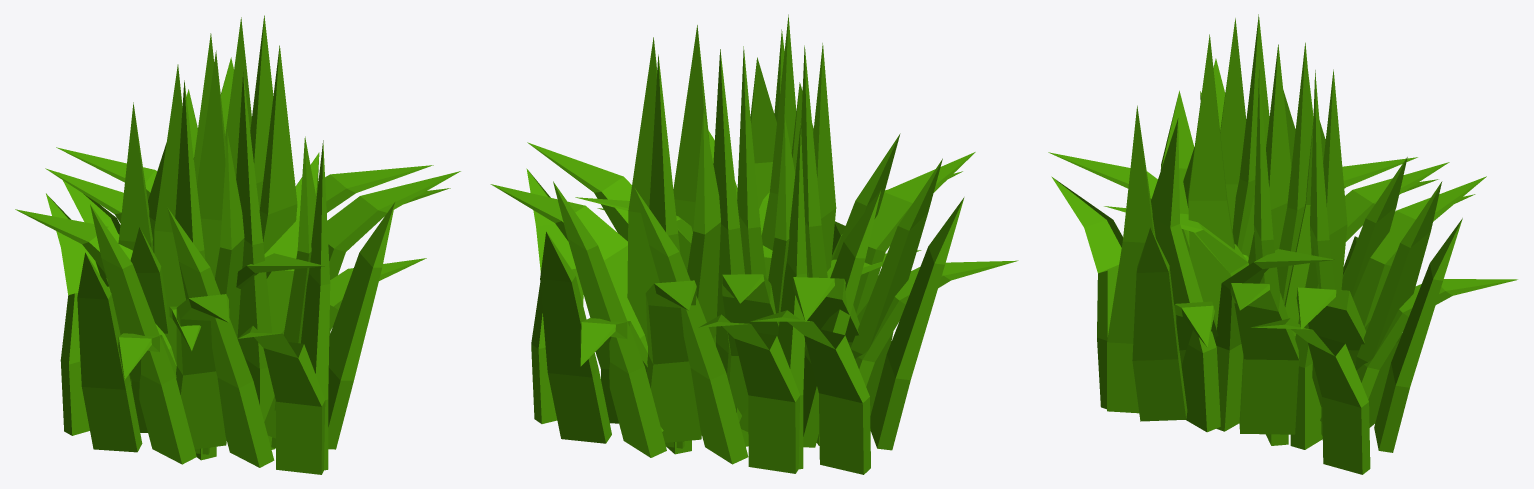
File: Trava01.glb
3 views of the same model, side by side, from view 1: azimuth 30°, elevation 25°; view 2: azimuth 150°, elevation 25°; view 3: azimuth 270°, elevation 25° (orthographic). The views are drawn at different scales.
Parts seen in each view (by area): view 1: Cube.001; view 2: Cube.001; view 3: Cube.001.
Part boxes in pixels (<box>): Cube.001: <box>15,15,460,474</box>; Cube.001: <box>490,14,1018,474</box>; Cube.001: <box>1048,14,1517,474</box>.
Bounding box in the file's own units: 0.1694 × 0.1524 × 0.1732.
